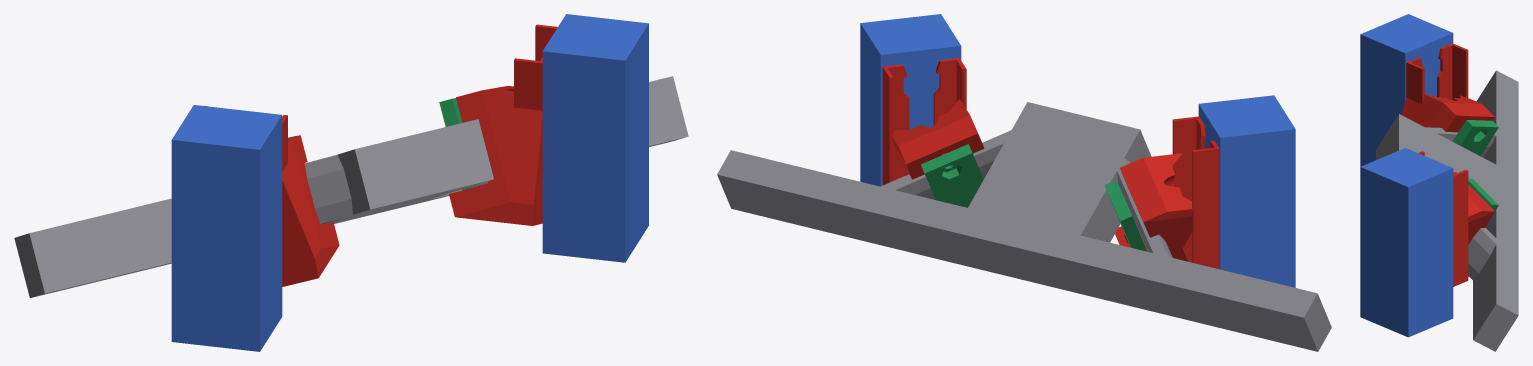
Rendered from assembly_m14.obj.
3 renders of one model, left to right at view 1: azimuth 30°, elevation 25°; view 2: azimuth 150°, elevation 25°; view 3: azimuth 270°, elevation 25°, orthographic. The views are drawn at different scales.
Parts seen in each view (by area): view 1: left_light_placeholder, right_light_placeholder, hanger_schematic, right_saddle, left_saddle; view 2: hanger_schematic, left_light_placeholder, left_saddle, right_light_placeholder, right_saddle, right_keeper, left_keeper; view 3: right_light_placeholder, hanger_schematic, left_light_placeholder, left_saddle, right_saddle, left_keeper, right_keeper.
Boxes of the visible parts, <box> form: left_light_placeholder: <box>171,105,282,351</box>; right_light_placeholder: <box>542,14,648,262</box>; hanger_schematic: <box>14,76,688,297</box>; right_saddle: <box>449,24,557,225</box>; left_saddle: <box>205,106,339,286</box>; hanger_schematic: <box>717,102,1331,351</box>; left_light_placeholder: <box>1198,95,1295,287</box>; left_saddle: <box>1115,116,1219,269</box>; right_light_placeholder: <box>860,14,961,186</box>; right_saddle: <box>882,58,984,185</box>; right_keeper: <box>921,144,983,207</box>; left_keeper: <box>1104,180,1146,251</box>; right_light_placeholder: <box>1360,148,1453,337</box>; hanger_schematic: <box>1376,70,1518,351</box>; left_light_placeholder: <box>1360,14,1453,166</box>; left_saddle: <box>1401,43,1494,132</box>; right_saddle: <box>1418,151,1494,286</box>; left_keeper: <box>1452,120,1498,156</box>; right_keeper: <box>1468,178,1498,210</box>.
Size of the model in its own units: 260 by 78 by 74.52.
